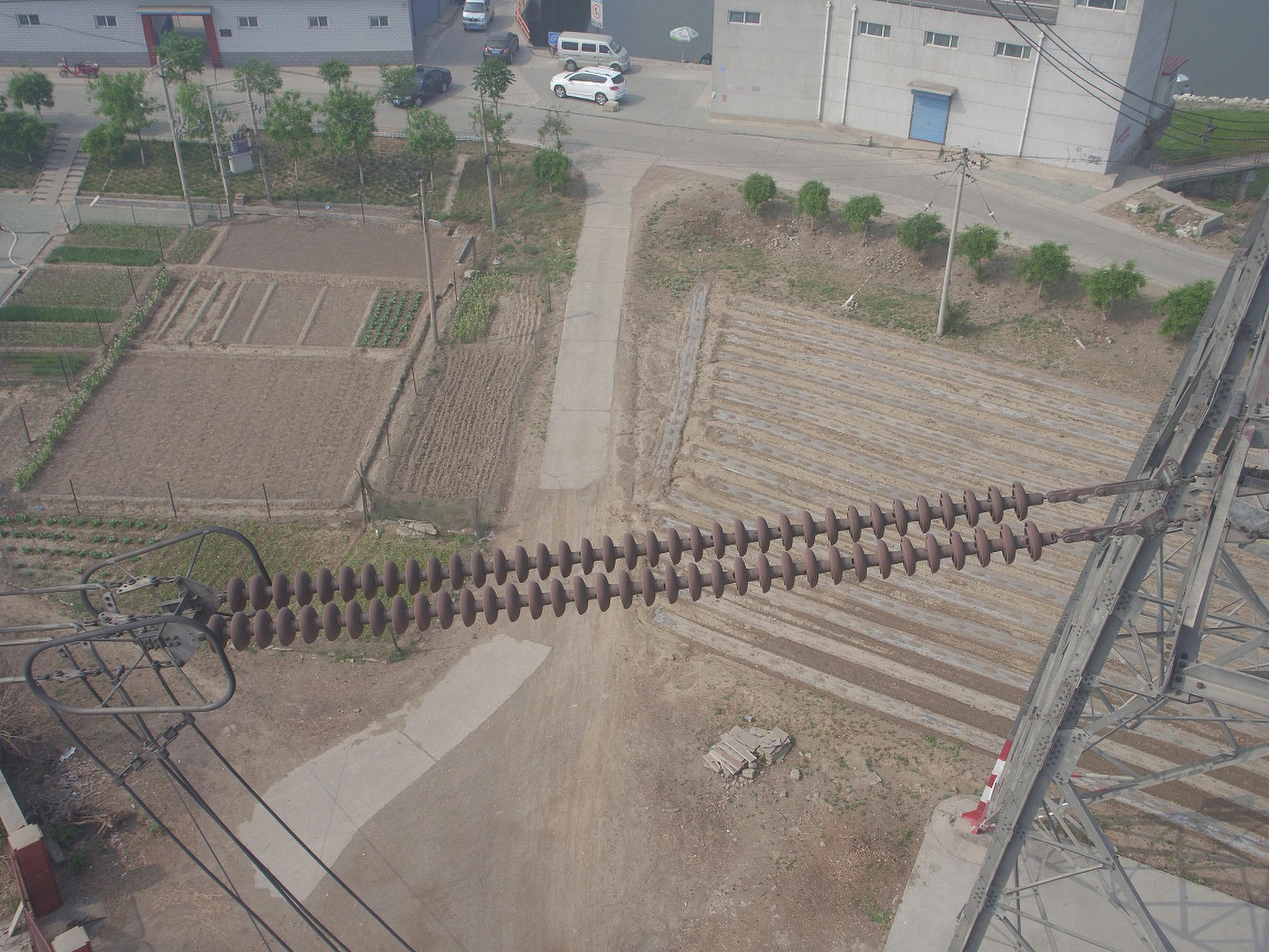insulator: (202, 478, 1047, 659)
